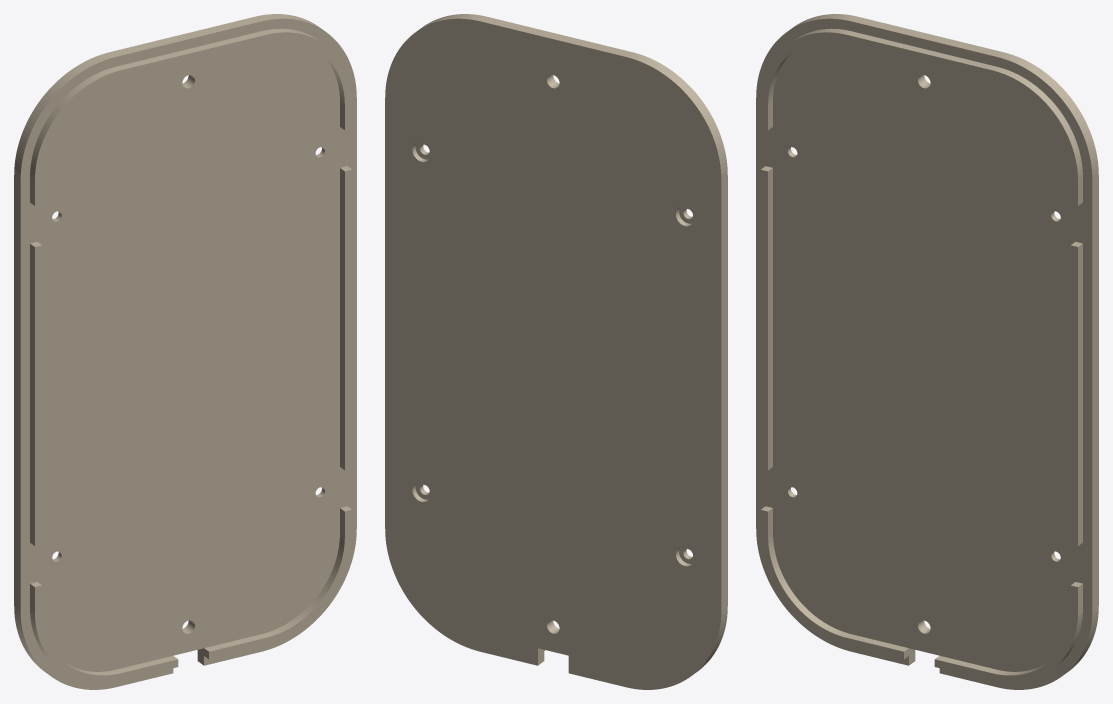
File: 03_rear_plate.obj
3 views of the same model, side by side, from view 1: azimuth 30°, elevation 25°; view 2: azimuth 150°, elevation 25°; view 3: azimuth 330°, elevation 25° (orthographic).
Parts seen in each view (by area): view 1: 03_rear_plate; view 2: 03_rear_plate; view 3: 03_rear_plate.
Part boxes in pixels (left/top/right/bottom): 03_rear_plate: left=14, top=14, right=356, bottom=689; 03_rear_plate: left=385, top=14, right=727, bottom=689; 03_rear_plate: left=756, top=14, right=1098, bottom=689.
Size of the model in its own units: 120 by 215 by 7.
